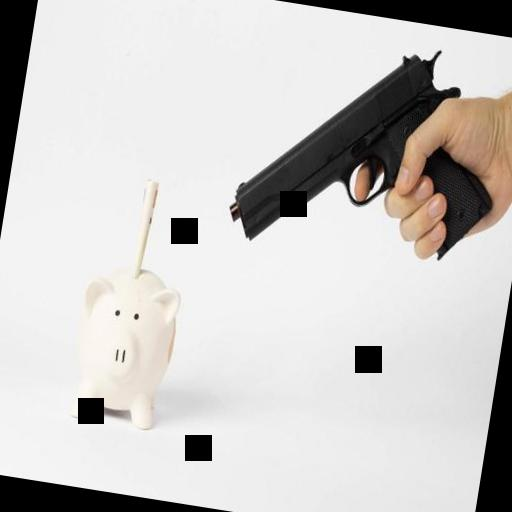Handgun: (221, 11, 512, 281)
